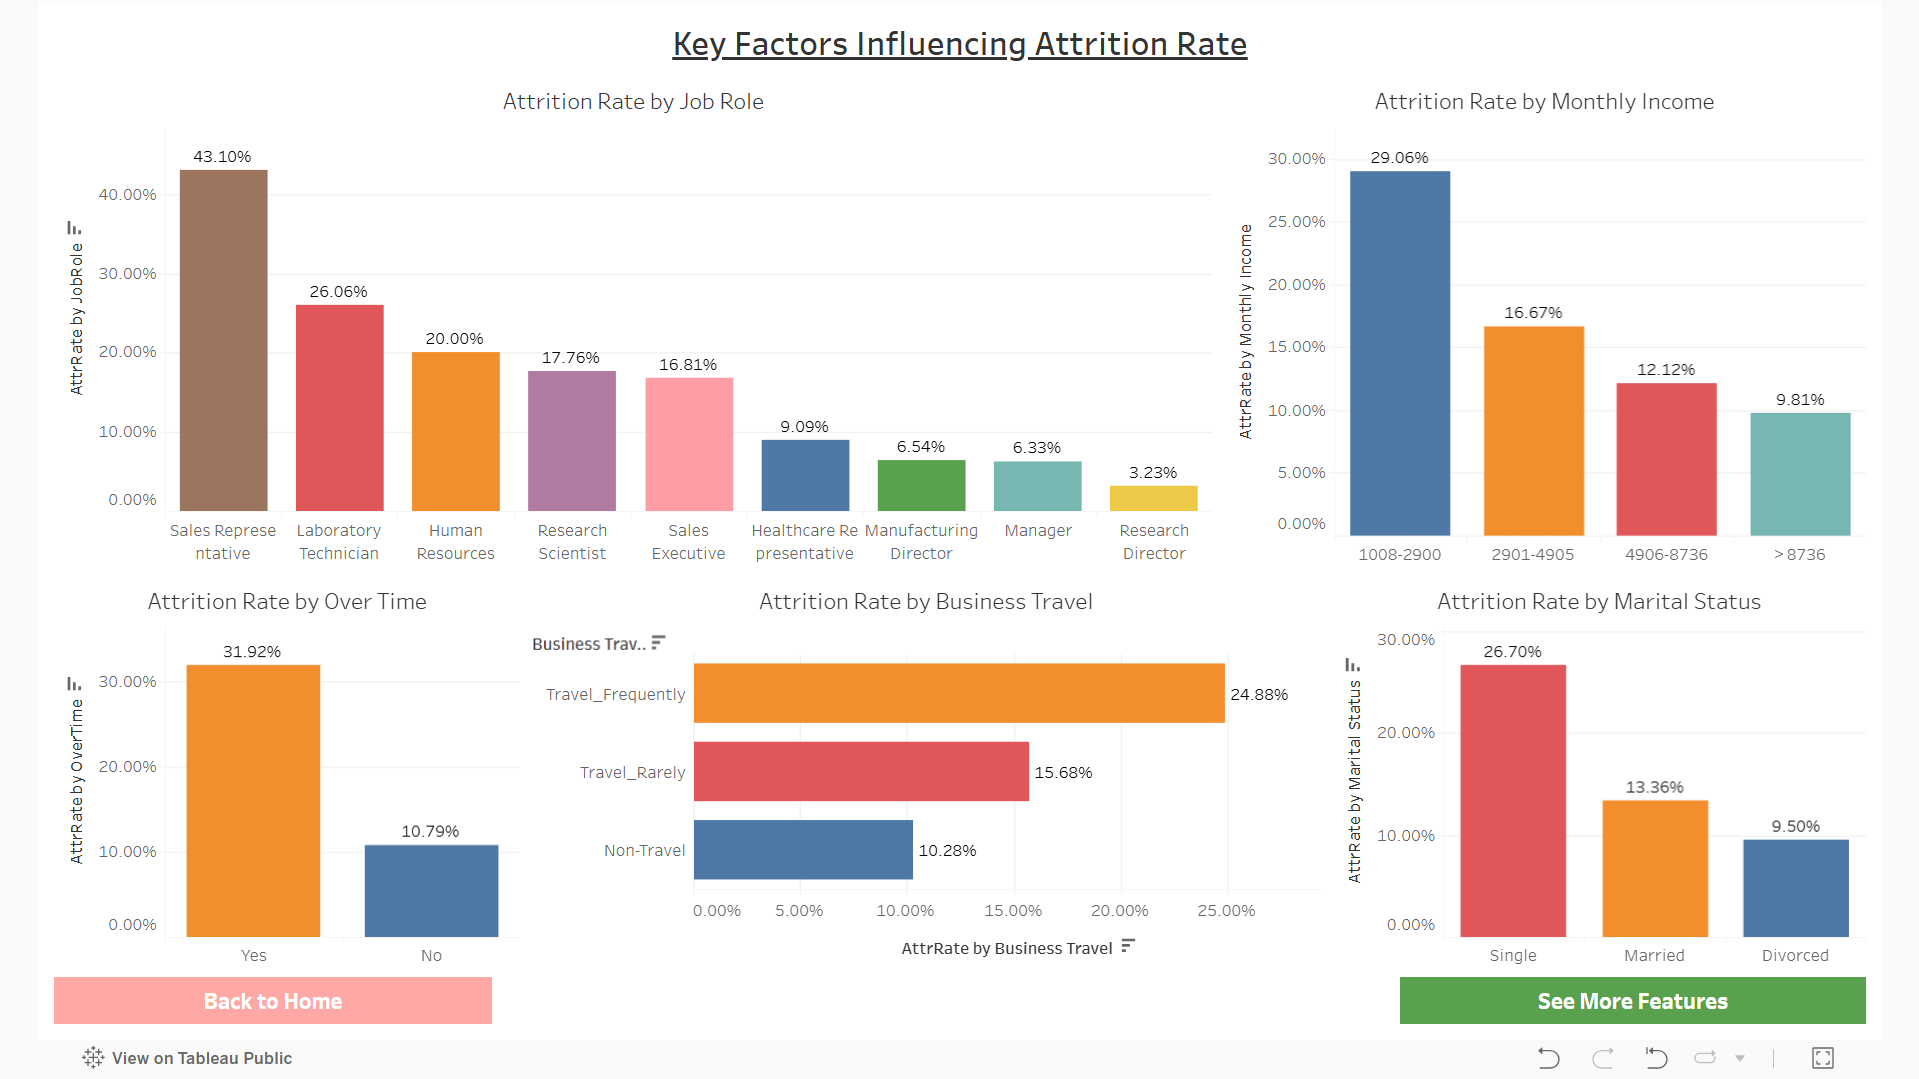

What the dashboard file says about the page in this screenshot:
{"tool":"tableau","page":{"name":"see_keyfeatures","canvas":[1000,800],"ordinal":1},"visuals":[{"type":"title","box":[8,8,984,42]},{"type":"worksheet","title":"rate% by job role","mark":"Automatic","rows":["Calculation_1055597518401556"],"cols":["JobRole"],"box":[8,50,631,387]},{"type":"worksheet","title":"rate by monthly income","mark":"Automatic","rows":["Calculation_1055597534462039"],"box":[639,50,353,387]},{"type":"worksheet","title":"rate% by overtime","mark":"Automatic","rows":["Calculation_1055597520211989"],"cols":["OverTime"],"box":[8,437,257,310]},{"type":"worksheet","title":"rate by business travel","mark":"Automatic","rows":["BusinessTravel"],"cols":["Calculation_1055597548646491"],"box":[265,437,433,310]},{"type":"worksheet","title":"rate by marital status","mark":"Bar","rows":["Calculation_1055597539397721"],"cols":["MaritalStatus"],"box":[698,437,294,310]},{"type":"dashboard-object","box":[8,747,241.9,45]},{"type":"blank","box":[249.9,747,485,45]},{"type":"dashboard-object","box":[735,747,257,45]}]}

Visuals, with their boxes on the page's 1000x800 design canvas (x1, y1, x2, y2). These are canvas units, not pixel positions in the 1919x1079 screenshot, which may show the page scaled, cropped or inside an application window:
title: (8,8,992,50)
"rate% by job role" worksheet: (8,50,639,437)
"rate by monthly income" worksheet: (639,50,992,437)
"rate% by overtime" worksheet: (8,437,265,747)
"rate by business travel" worksheet: (265,437,698,747)
"rate by marital status" worksheet (Bar marks): (698,437,992,747)
dashboard-object: (8,747,250,792)
blank: (250,747,735,792)
dashboard-object: (735,747,992,792)
